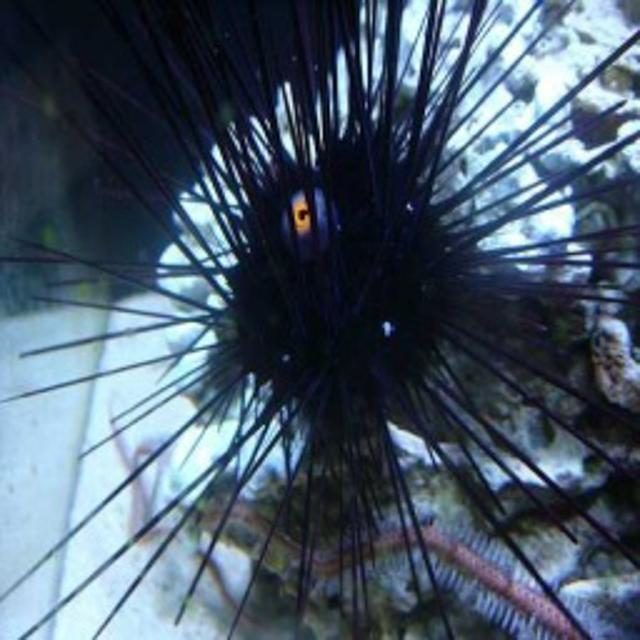Urchin: (19, 6, 628, 620)
